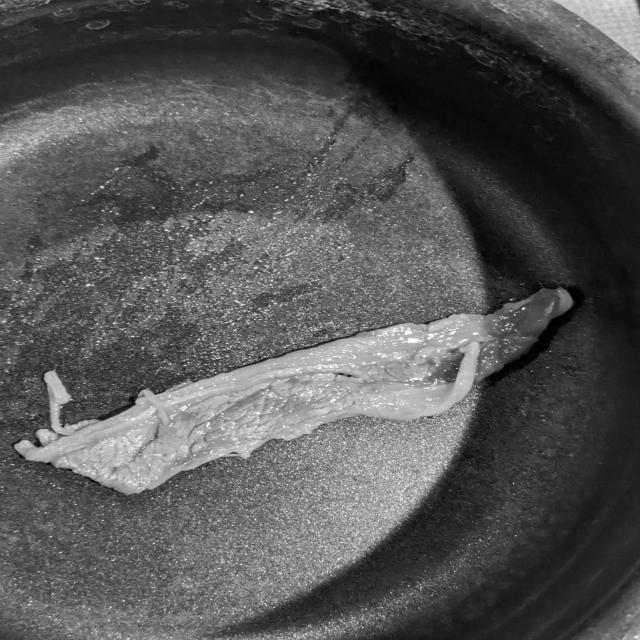NG undercooked beef,: (15, 279, 580, 507)
